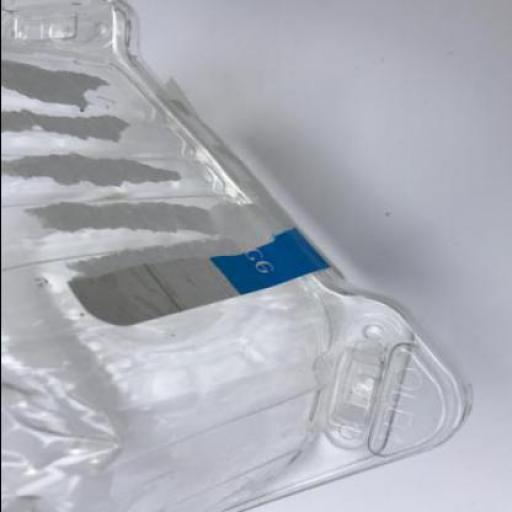plastic: (1, 1, 473, 511)
